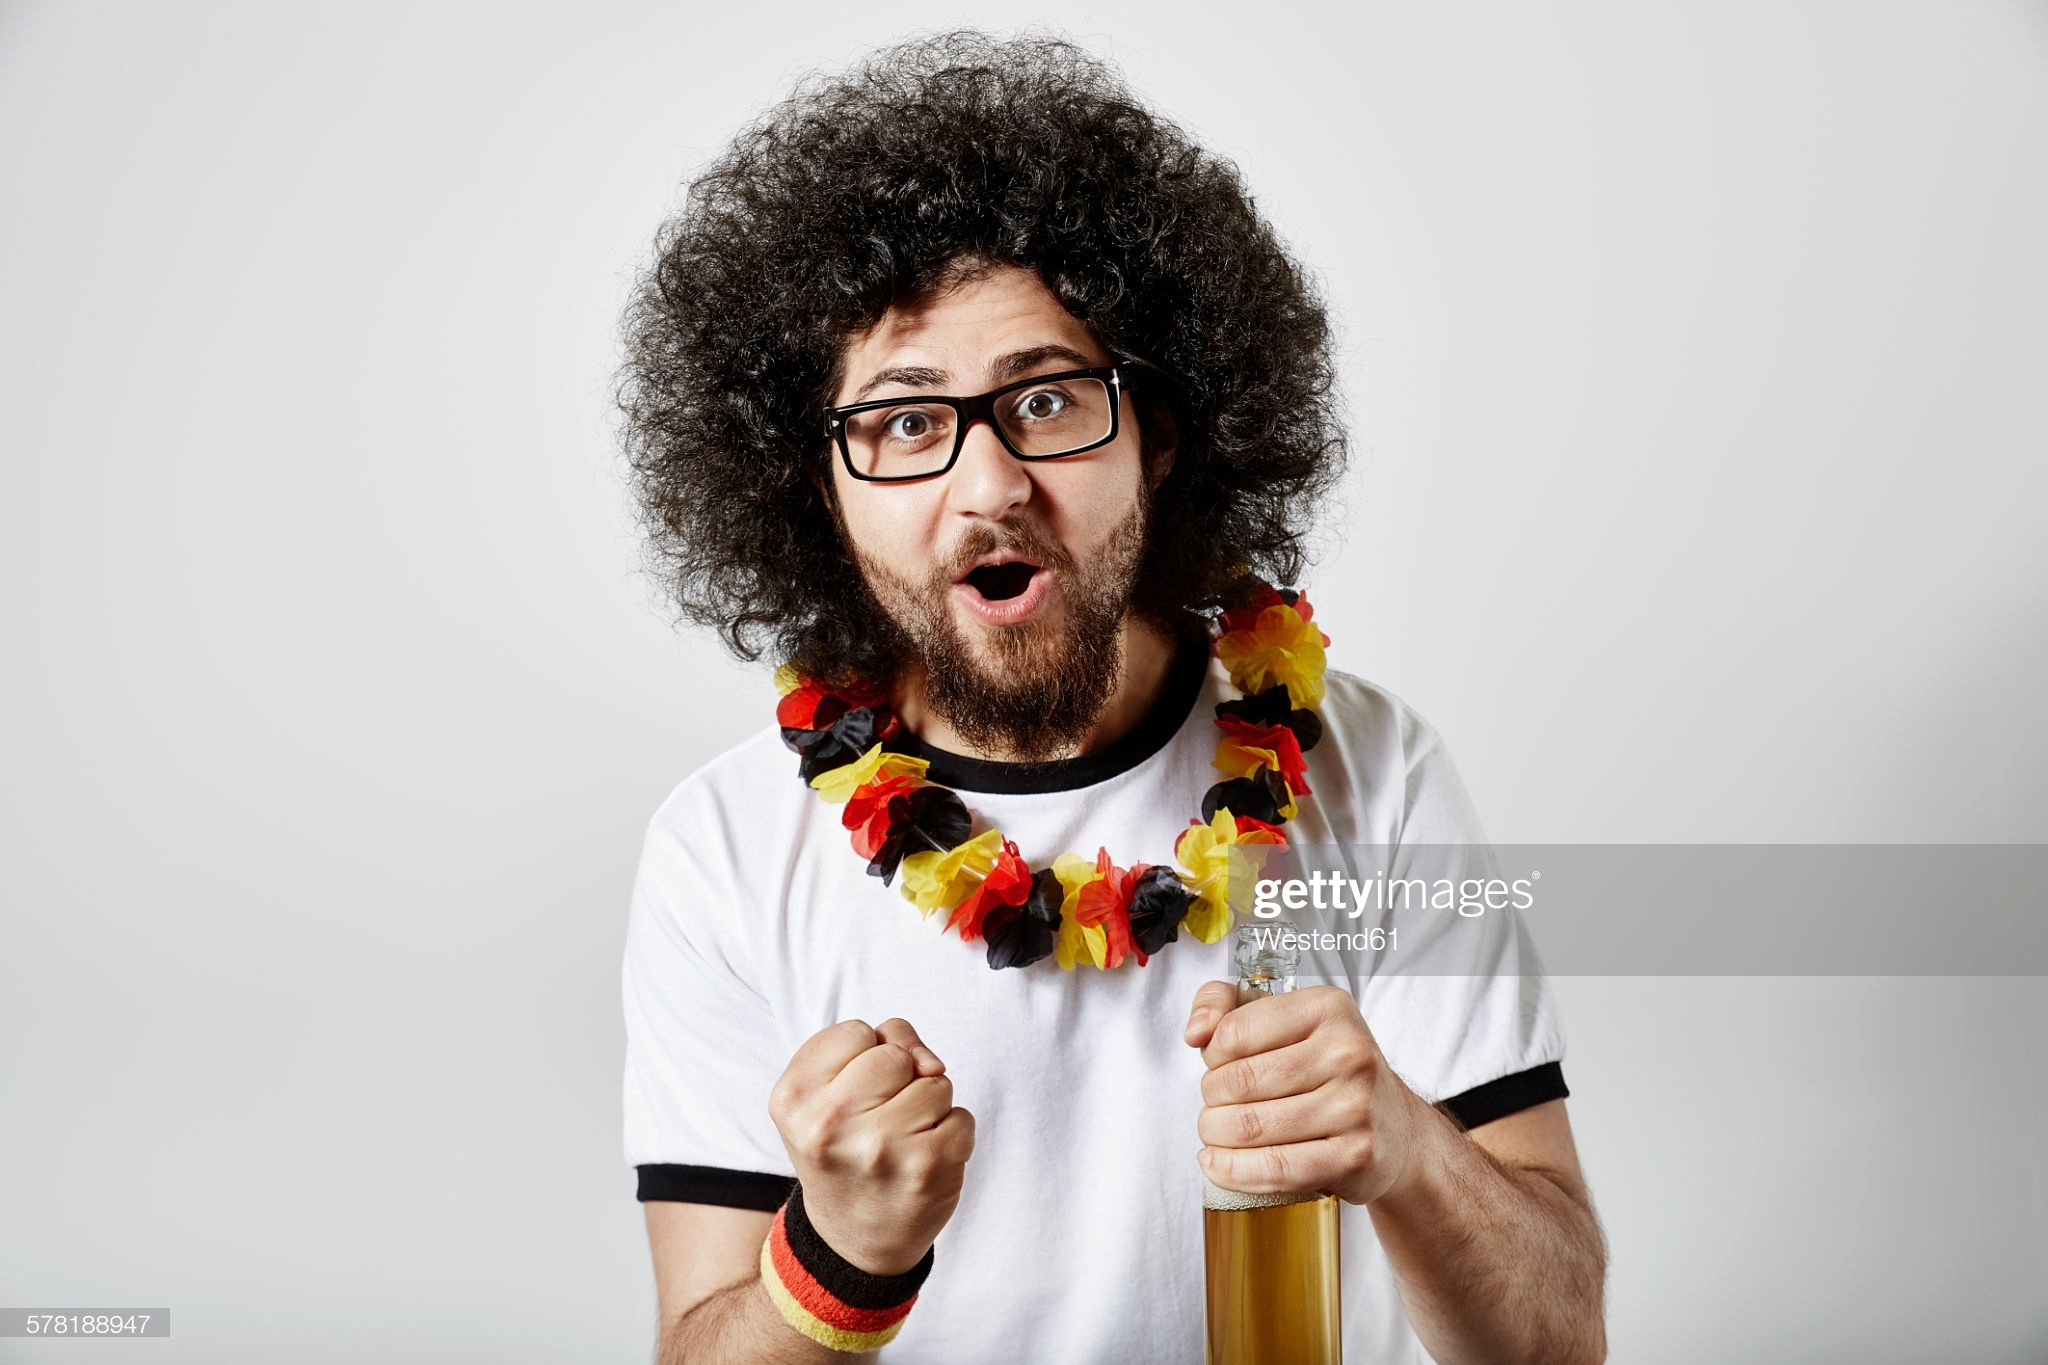beerBottle: (1197, 922, 1349, 1365)
